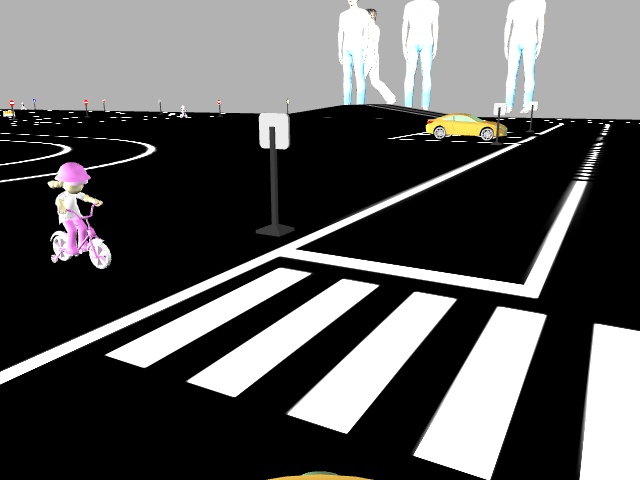Pedestrian: (34, 158, 115, 272)
